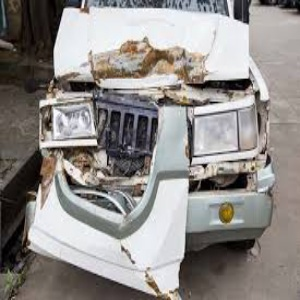bonnet: (50, 8, 253, 86)
bumper: (24, 184, 213, 296)
